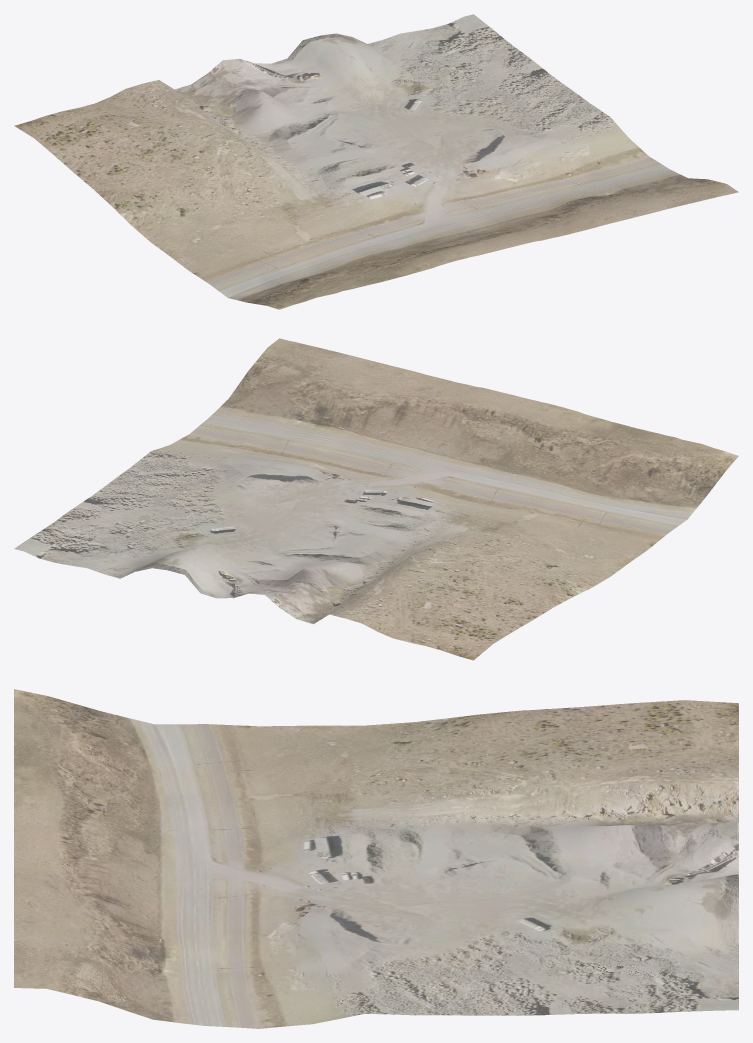
The model's file is CM_Terrain_24493530_6814674.fbx.
3 renders of one model, top to bottom at view 1: azimuth 30°, elevation 25°; view 2: azimuth 150°, elevation 25°; view 3: azimuth 270°, elevation 25°, orthographic. The views are drawn at different scales.
Visible parts, largest first — view 1: CM_Terrain_24493530_6814674_LOD0; view 2: CM_Terrain_24493530_6814674_LOD0; view 3: CM_Terrain_24493530_6814674_LOD0.
Part boxes in pixels (left/top/right/bottom): CM_Terrain_24493530_6814674_LOD0: left=14, top=14, right=738, bottom=309; CM_Terrain_24493530_6814674_LOD0: left=14, top=338, right=738, bottom=660; CM_Terrain_24493530_6814674_LOD0: left=14, top=689, right=738, bottom=1028.
Size of what is drawn, in the model's own units: 205 by 14.51 by 205.
